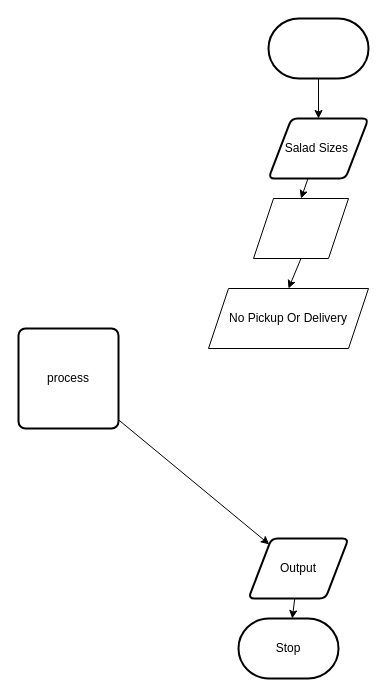
The diagram is 386 pixels wide and 696 high, and some of its shapes have lost their labels. Here are the shapes that lost their labels. From the top down, the centre of each, then its label:
the point at 318,48: Start
the point at 300,228: Salad Dressing
